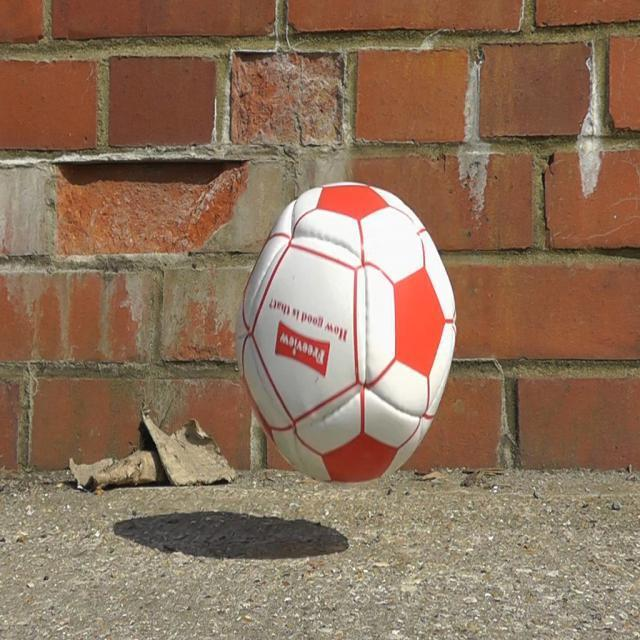football: (238, 163, 480, 488)
